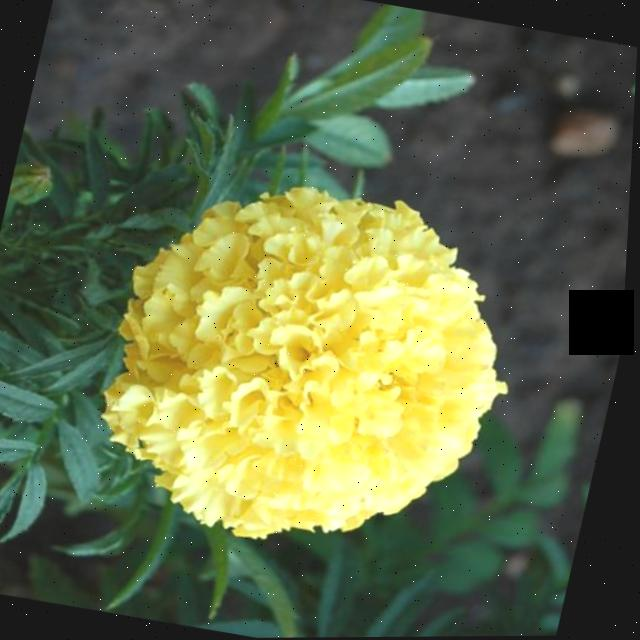marigold: (48, 154, 568, 637)
